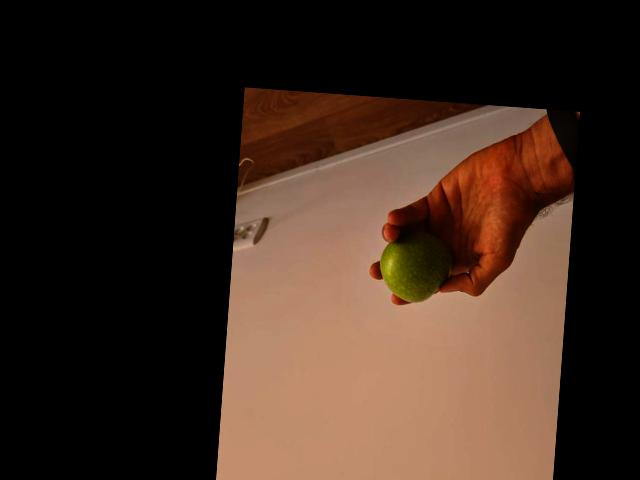apple: (375, 224, 451, 302)
